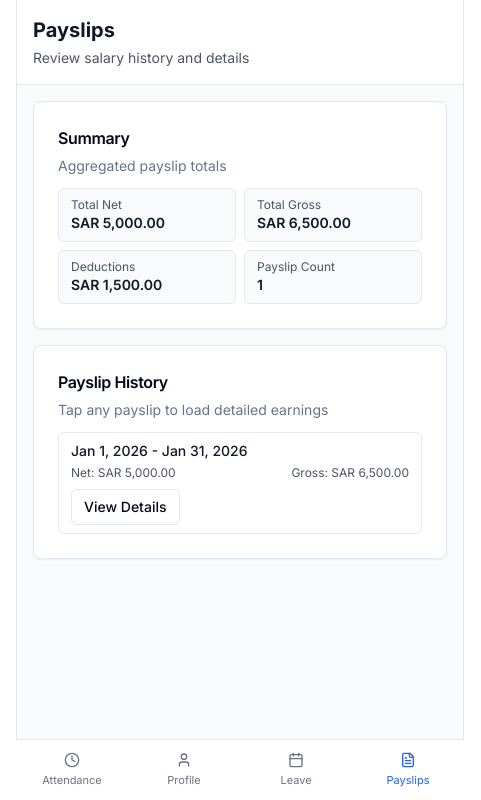
Test: Mobile bootstrap integration journeys › loads payslips module and opens details for a selected cycle
This screenshot has width=481, height=800.
Click the button "View Details": click(125, 507) left=71, top=489, right=180, bottom=525
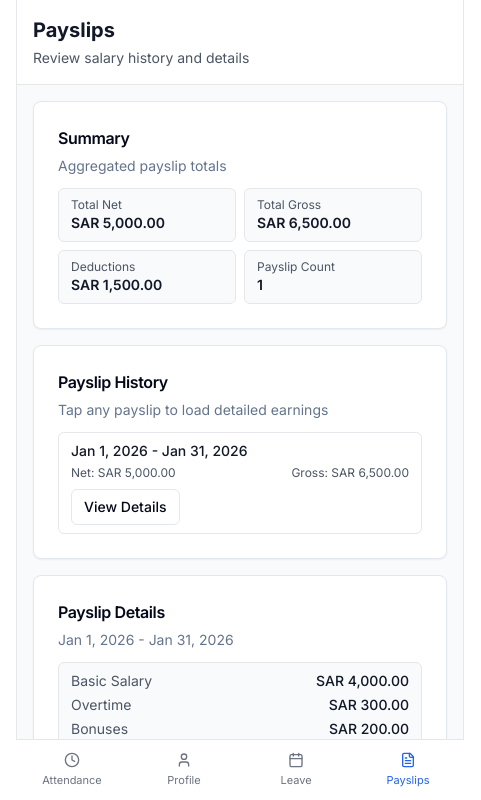
Result: the heading "Payslip Details" is shown at left=58, top=602, right=165, bottom=622
